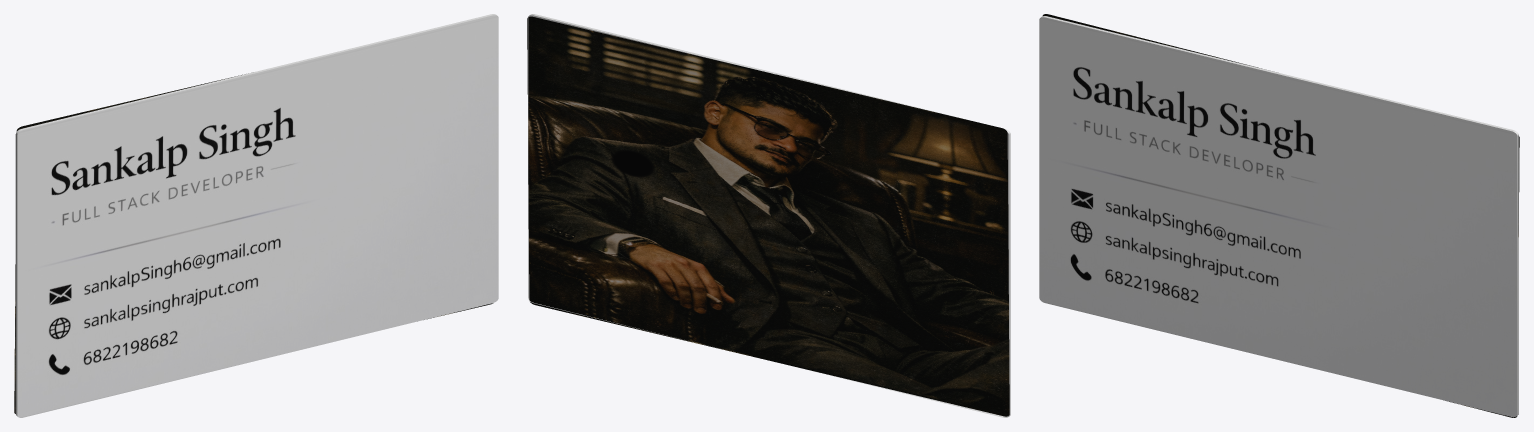
The model's file is portfolio_card.glb.
3 views of the same model, side by side, from view 1: azimuth 30°, elevation 25°; view 2: azimuth 150°, elevation 25°; view 3: azimuth 330°, elevation 25° (orthographic).
Visible parts, largest first — view 1: BACK_Cube.003; view 2: BACK_Cube.003; view 3: BACK_Cube.003.
Part boxes in pixels (x1,y1,x2,y2): BACK_Cube.003: [14, 14, 498, 417]; BACK_Cube.003: [527, 14, 1010, 417]; BACK_Cube.003: [1039, 14, 1519, 417].
Size of the model in its own units: 703 by 405 by 5.21.
Materials: 3 (2 with a texture image).
